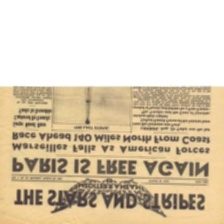news_paper: (0, 86, 224, 224)
